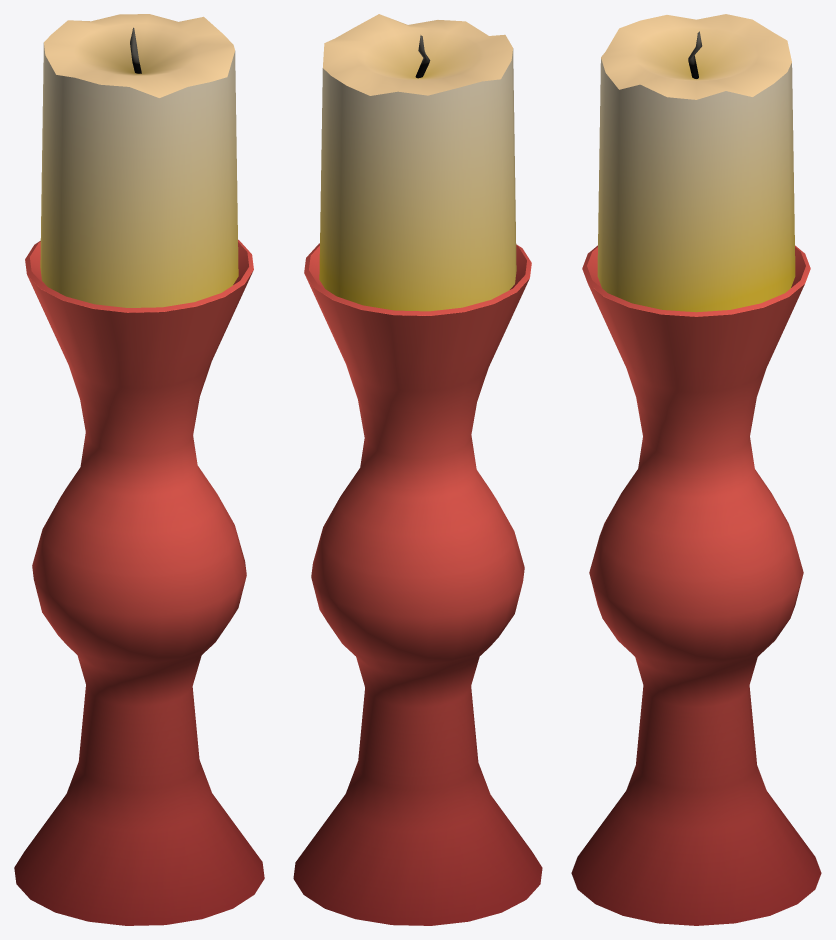
The model's file is SM_CandleNew.fbx.
The picture shows the model from 3 angles, left to right: view 1: azimuth 30°, elevation 25°; view 2: azimuth 150°, elevation 25°; view 3: azimuth 270°, elevation 25°; orthographic projection.
Parts seen in each view (by area): view 1: SM_FancyCandle; view 2: SM_FancyCandle; view 3: SM_FancyCandle.
Part boxes in pixels (box(x1,y1,x2,y2)): SM_FancyCandle: box(14, 14, 264, 925); SM_FancyCandle: box(293, 14, 542, 925); SM_FancyCandle: box(571, 14, 821, 925).
Size of the model in its own units: 8.6 by 31.84 by 8.6.
